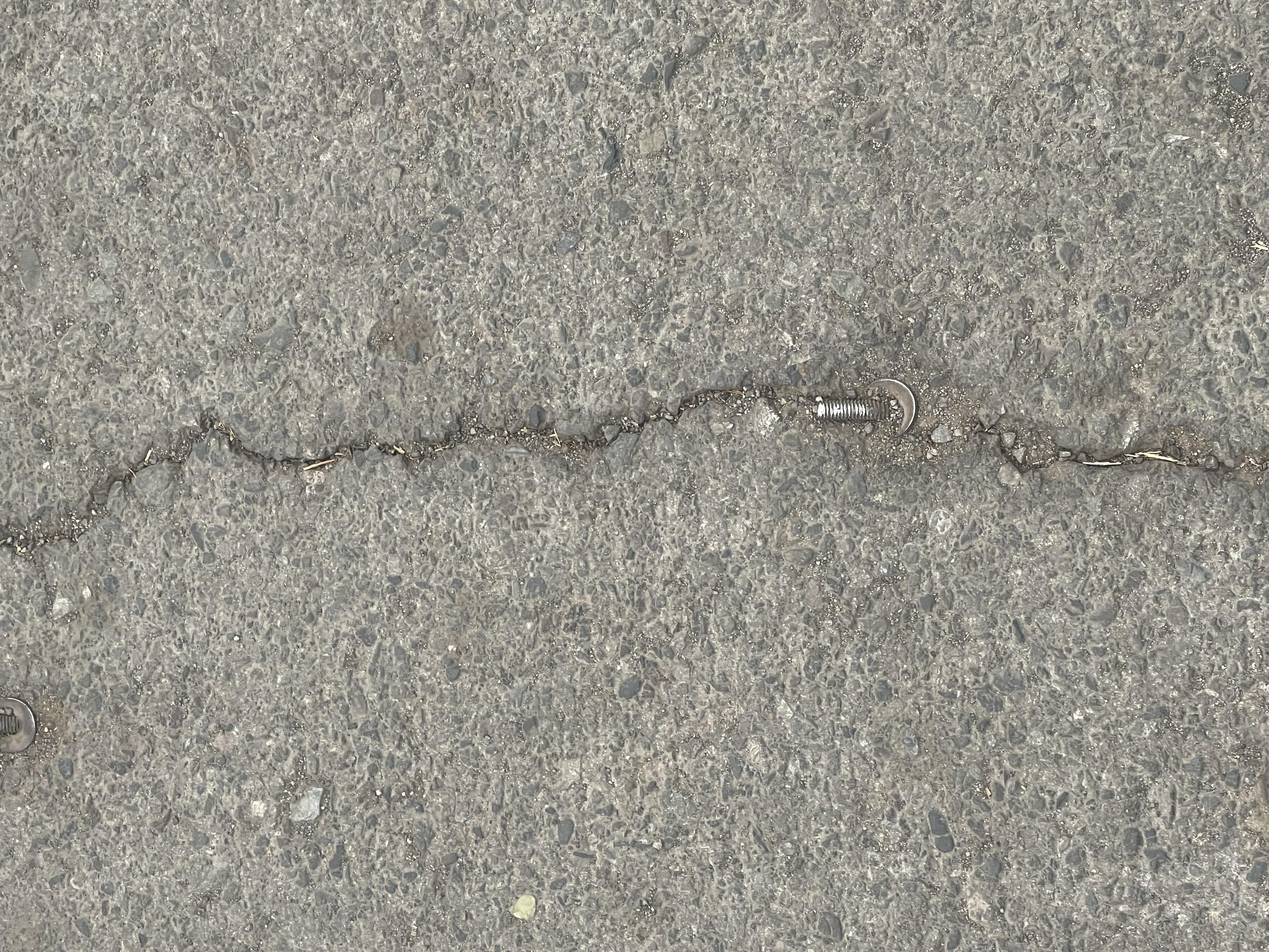GRIETA: (0, 353, 1269, 555)
PIEL DE COCODRILO: (605, 0, 1269, 414), (815, 507, 1269, 952)
